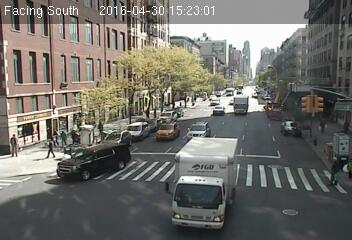neg: (266, 152, 304, 203), (176, 149, 212, 196), (40, 39, 70, 78), (185, 88, 208, 119), (259, 84, 282, 114), (302, 89, 324, 119), (135, 108, 157, 137), (133, 54, 154, 82), (218, 66, 239, 93), (216, 122, 237, 149), (171, 54, 190, 79), (157, 173, 176, 198), (68, 175, 87, 200), (90, 80, 105, 100), (114, 156, 128, 175)
pos: (323, 152, 346, 183), (245, 29, 267, 58), (4, 161, 25, 188), (56, 83, 73, 106), (41, 137, 58, 159), (5, 129, 21, 150), (92, 117, 107, 137), (59, 129, 72, 145)
